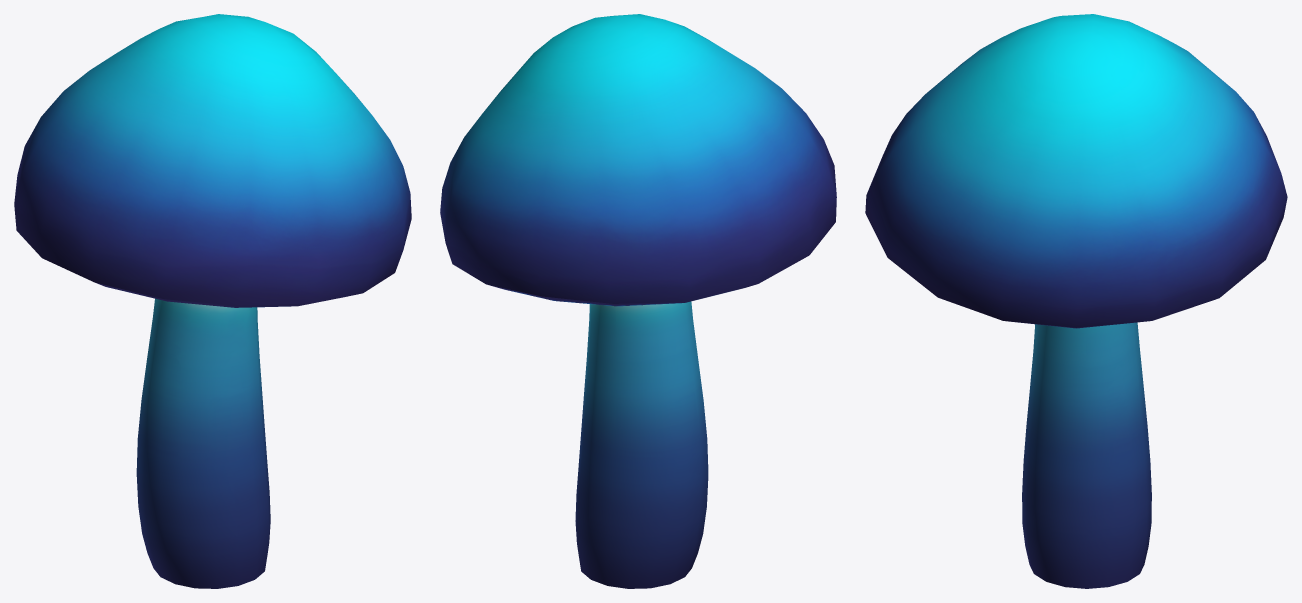
The model's file is Mushroom001.fbx.
3 renders of one model, left to right at view 1: azimuth 30°, elevation 25°; view 2: azimuth 150°, elevation 25°; view 3: azimuth 270°, elevation 25°, orthographic.
Parts seen in each view (by area): view 1: Mushroom01; view 2: Mushroom01; view 3: Mushroom01.
Boxes of the visible parts, x1=… form: Mushroom01: x1=14, y1=14, x2=411, y2=588; Mushroom01: x1=440, y1=14, x2=836, y2=588; Mushroom01: x1=865, y1=14, x2=1287, y2=588.
Bounding box in the file's own units: 239 × 352 × 248.
Materials: 1 (1 with a texture image).
